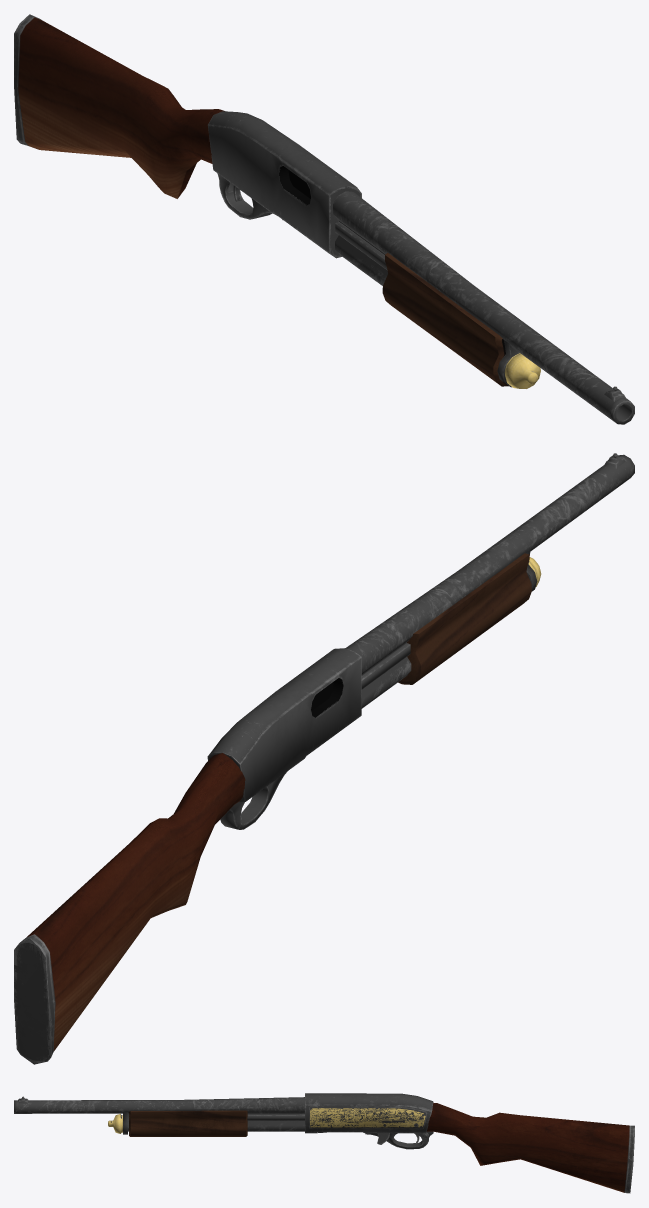
3 views of the same model, one above another, from view 1: azimuth 30°, elevation 25°; view 2: azimuth 150°, elevation 25°; view 3: azimuth 270°, elevation 25° (orthographic). The views are drawn at different scales.
Parts seen in each view (by area): view 1: shotgun.006; view 2: shotgun.006; view 3: shotgun.006.
Part boxes in pixels (bbox=[...]): shotgun.006: bbox=[14, 14, 634, 424]; shotgun.006: bbox=[14, 453, 634, 1064]; shotgun.006: bbox=[14, 1093, 634, 1193].
Size of the model in its own units: 39.97 by 190 by 1085.
Materials: 1 (1 with a texture image).
